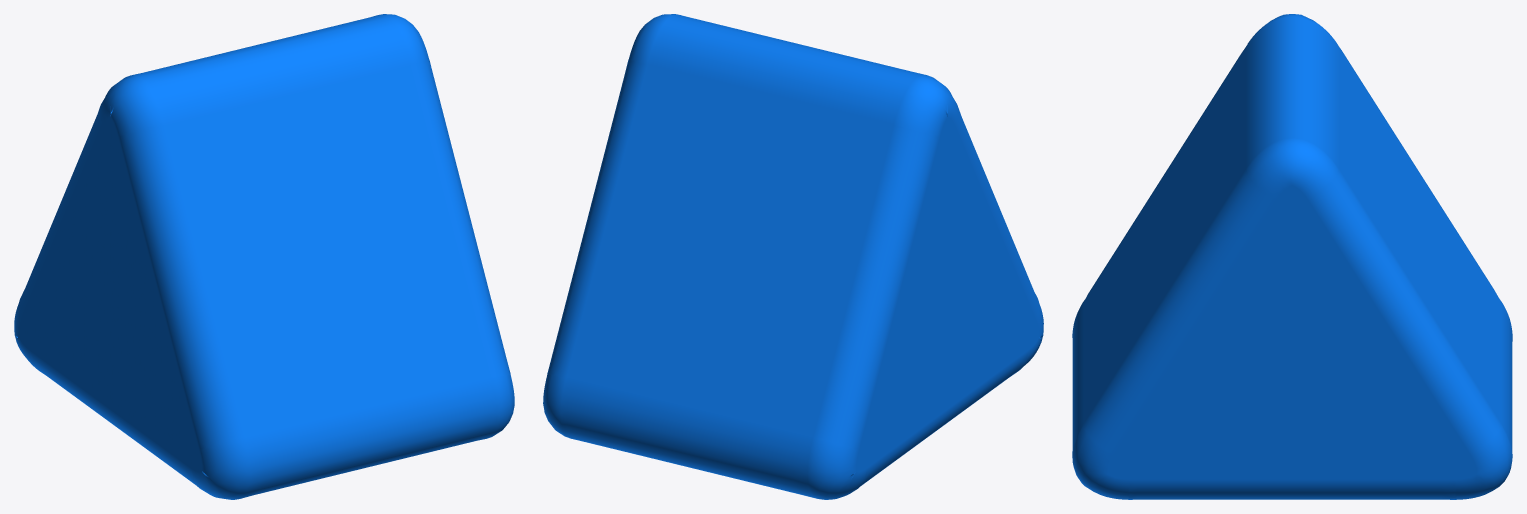
File: triangle_render.glb
3 views of the same model, side by side, from view 1: azimuth 30°, elevation 25°; view 2: azimuth 150°, elevation 25°; view 3: azimuth 270°, elevation 25° (orthographic).
Visible parts, largest first — view 1: NAUO1.002; view 2: NAUO1.002; view 3: NAUO1.002.
Boxes of the visible parts, x1,y1,x2,y2 form: NAUO1.002: (14,14,514,499); NAUO1.002: (543,14,1043,499); NAUO1.002: (1072,14,1512,499).
Size of the model in its own units: 0.02 by 0.0221 by 0.0246.
